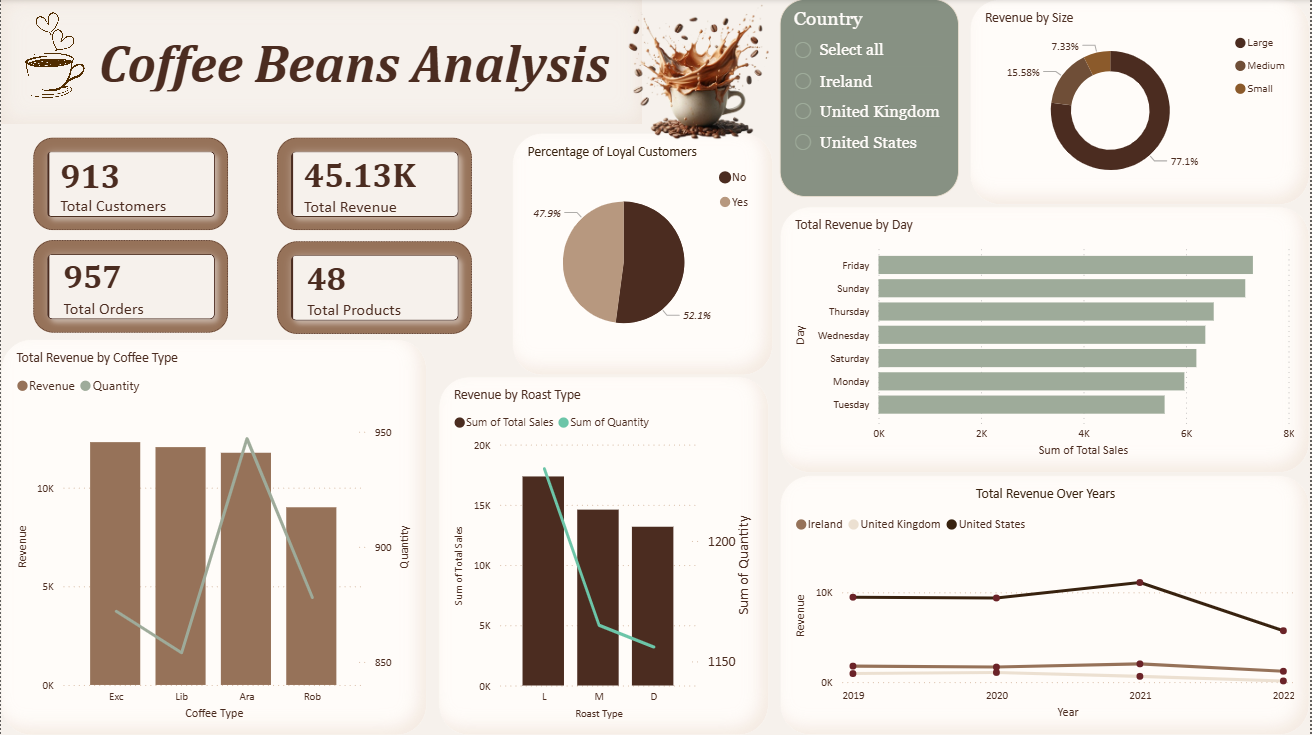

Layout of this report page (visuals, bound fields, positions):
{"tool":"powerbi","page":{"name":"Page 1","canvas":[1280,720],"ordinal":0},"visuals":[{"type":"cardVisual","title":"Total Customers","fields":{"Data":["Count(Cleaned_Coffee_Beans.Customer ID)"]},"box":[26.9,130.8,200.5,100.3],"z":0},{"type":"cardVisual","fields":{"Data":["Sum(Cleaned_Coffee_Beans.Total Sales)"]},"box":[265.4,130.8,200.5,100.3],"z":1000},{"type":"lineChart","title":"Total Revenue Over Years ","fields":{"Category":["Cleaned_Coffee_Beans.Year"],"Y":["Sum(Cleaned_Coffee_Beans.Total Sales)"],"Series":["Cleaned_Coffee_Beans.Country"]},"box":[761.8,465.9,518.5,254.3],"z":2000},{"type":"pieChart","title":"Percentage of Loyal Customers","fields":{"Category":["Cleaned_Coffee_Beans.Loyalty Card"],"Y":["CountNonNull(Cleaned_Coffee_Beans.Loyalty Card)"]},"box":[500.1,130.8,255.6,237.2],"z":3000},{"type":"lineClusteredColumnComboChart","title":"Total Revenue by Coffee Type","fields":{"Category":["Cleaned_Coffee_Beans.Coffee Type"],"Y":["Sum(Cleaned_Coffee_Beans.Total Sales)"],"Y2":["Sum(Cleaned_Coffee_Beans.Quantity)"]},"box":[0,332.6,417,387.6],"z":4000},{"type":"donutChart","title":"Revenue by Size ","fields":{"Category":["Cleaned_Coffee_Beans.Size Category"],"Y":["Sum(Cleaned_Coffee_Beans.Total Sales)"]},"box":[947.7,0,332.6,201.8],"z":4001},{"type":"shape","box":[0,0,627.3,122.3],"z":4003},{"type":"image","box":[0,8.6,100.3,96.6],"z":4004},{"type":"barChart","title":"Total Revenue by Day","fields":{"Category":["Cleaned_Coffee_Beans.Day"],"Y":["Sum(Cleaned_Coffee_Beans.Total Sales)"]},"box":[761.8,203,518.5,260.5],"z":4005},{"type":"lineClusteredColumnComboChart","title":"Revenue by Roast Type","fields":{"Category":["Cleaned_Coffee_Beans.Roast Type"],"Y":["Sum(Cleaned_Coffee_Beans.Total Sales)"],"Y2":["Sum(Cleaned_Coffee_Beans.Quantity)"]},"box":[428,369.3,322.8,351],"z":4006},{"type":"cardVisual","fields":{"Data":["Count(Cleaned_Coffee_Beans.Product ID)"]},"box":[265.4,232.3,200.5,100.3],"z":4008},{"type":"cardVisual","fields":{"Data":["Count(Cleaned_Coffee_Beans.Order ID)"]},"box":[26.9,231.1,200.5,100.3],"z":4009},{"type":"listSlicer","fields":{"Values":["Cleaned_Coffee_Beans.Country"]},"box":[761.8,0,174.9,193.2],"z":4010},{"type":"image","box":[534.4,0,288.6,151.6],"z":4011}]}

Visuals, with their boxes in screenshot pixels (x1, y1, x2, y2), scaled from the page's 1280x720 canvas onto the 1312x735 screenshot:
"Total Customers" cardVisual: box=[28, 134, 233, 236]
cardVisual - Sum(Cleaned_Coffee_Beans.Total Sales): box=[272, 134, 478, 236]
"Total Revenue Over Years " lineChart: box=[781, 476, 1311, 734]
"Percentage of Loyal Customers" pieChart: box=[513, 134, 775, 376]
"Total Revenue by Coffee Type" lineClusteredColumnComboChart: box=[0, 340, 427, 734]
"Revenue by Size " donutChart: box=[971, 0, 1311, 206]
shape: box=[0, 0, 643, 125]
image: box=[0, 9, 103, 107]
"Total Revenue by Day" barChart: box=[781, 207, 1311, 473]
"Revenue by Roast Type" lineClusteredColumnComboChart: box=[439, 377, 770, 734]
cardVisual - Count(Cleaned_Coffee_Beans.Product ID): box=[272, 237, 478, 340]
cardVisual - Count(Cleaned_Coffee_Beans.Order ID): box=[28, 236, 233, 338]
listSlicer - Cleaned_Coffee_Beans.Country: box=[781, 0, 960, 197]
image: box=[548, 0, 844, 155]
